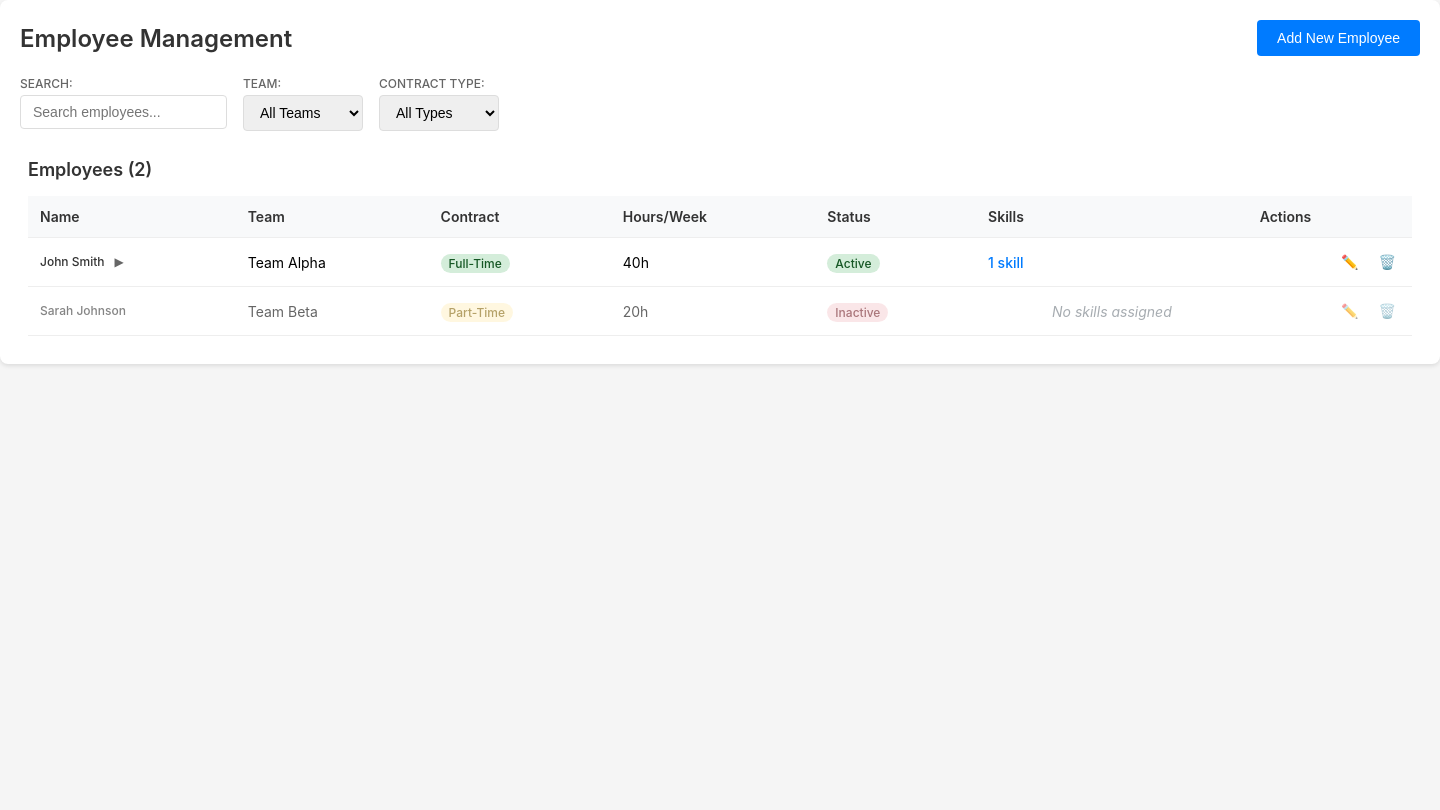
Test: EmployeeManagement › opens edit employee form
Click the button titled "Edit employee" in the row of "John Smith" at (1350, 262), box [1337,250,1363,274]
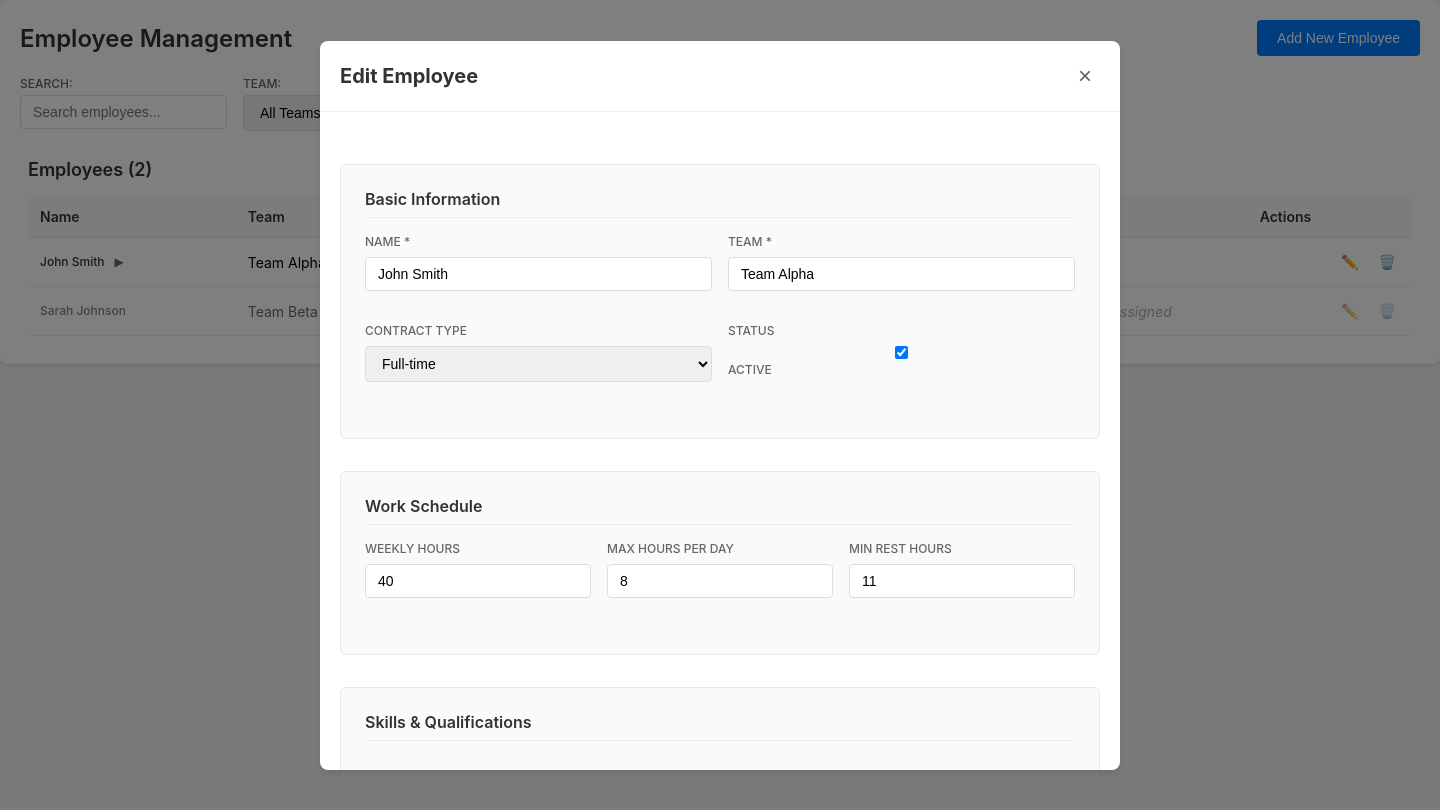
Expected: the heading "Edit Employee" is shown, [340,64,478,88]
Expected: the field showing "John Smith" is shown, [365,256,712,290]
